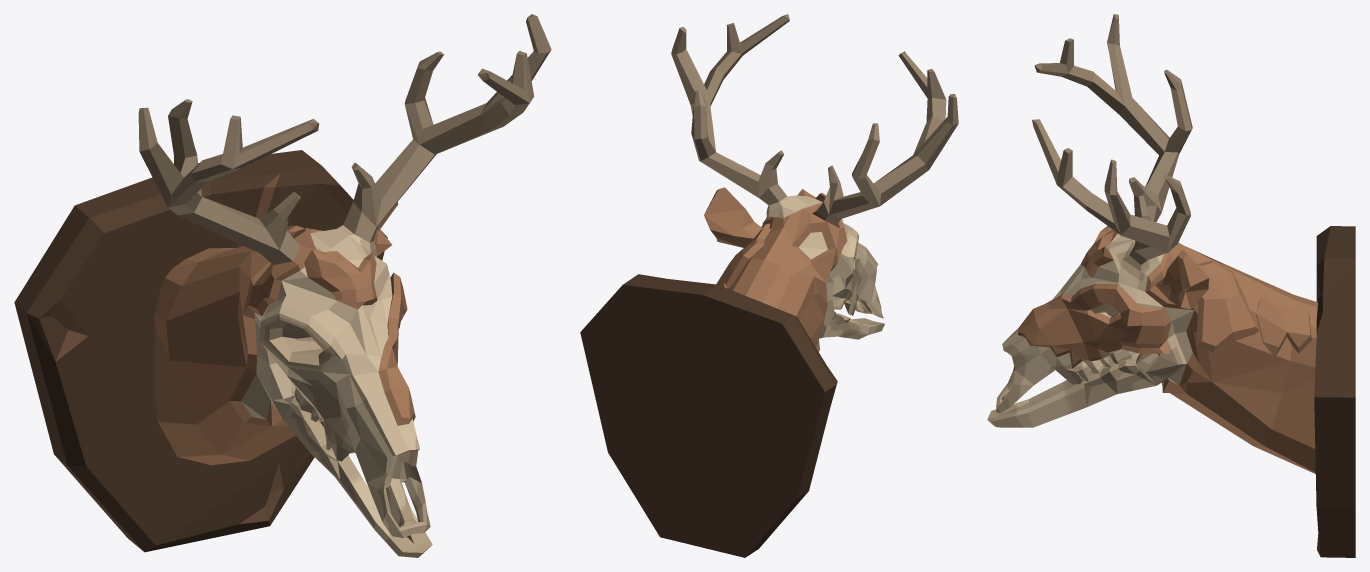
The model's file is crypt_head.gltf.
The picture shows the model from 3 angles, left to right: view 1: azimuth 30°, elevation 25°; view 2: azimuth 150°, elevation 25°; view 3: azimuth 270°, elevation 25°; orthographic projection. The views are drawn at different scales.
Parts seen in each view (by area): view 1: crypt_head; view 2: crypt_head; view 3: crypt_head.
Part boxes in pixels (x1,y1,x2,y2): crypt_head: (14, 14, 551, 557); crypt_head: (580, 14, 958, 557); crypt_head: (987, 14, 1355, 557).
Bounding box in the file's own units: 1.03 × 1.41 × 1.05.
1 material, 1 textured.
